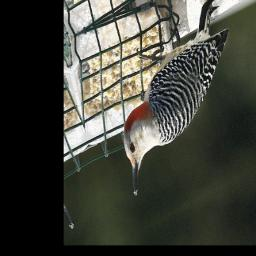Woodpecker: (101, 0, 254, 197)
